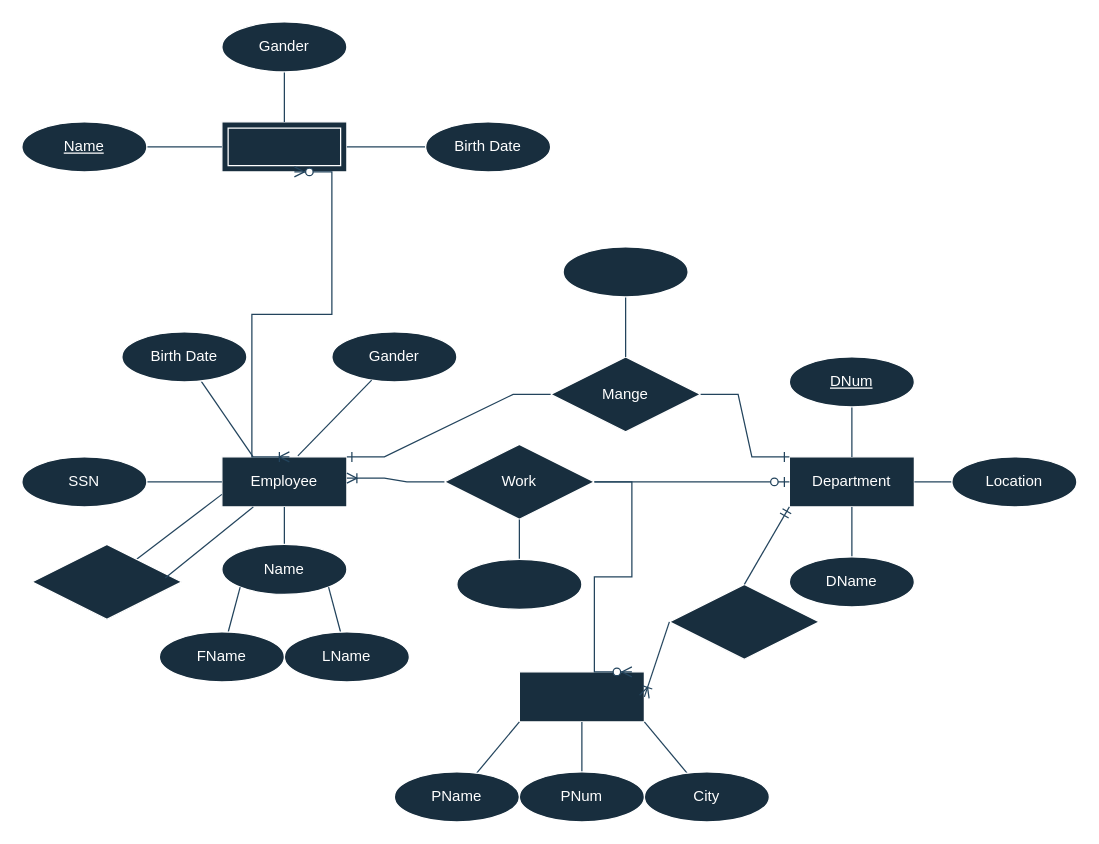
Some shapes in this 1099 by 844 pixel diagram are drawn without their labels. The shapes that lost their labels are listed below. From the top down, each one's centre as x and y in pixels, then its label:
the point at 284,146: Dependents
the point at 625,271: Hiring Date
the point at 106,581: Supervisor
the point at 519,583: Work Hours
the point at 743,621: Have
the point at 581,696: Project
